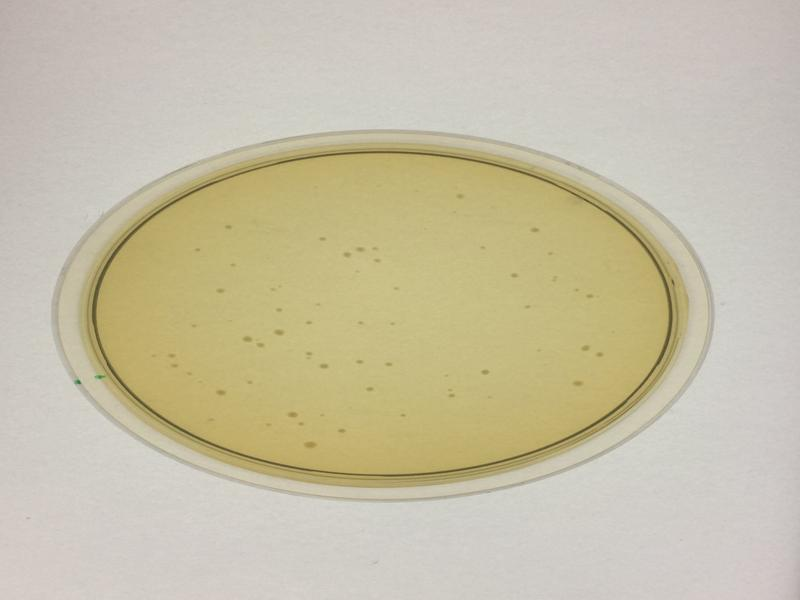colony: (301, 438, 322, 452), (349, 356, 370, 369), (215, 388, 228, 402), (222, 221, 235, 234), (479, 366, 493, 378), (274, 326, 286, 339), (509, 270, 522, 282), (213, 286, 226, 296), (454, 191, 464, 203), (531, 226, 542, 235)
